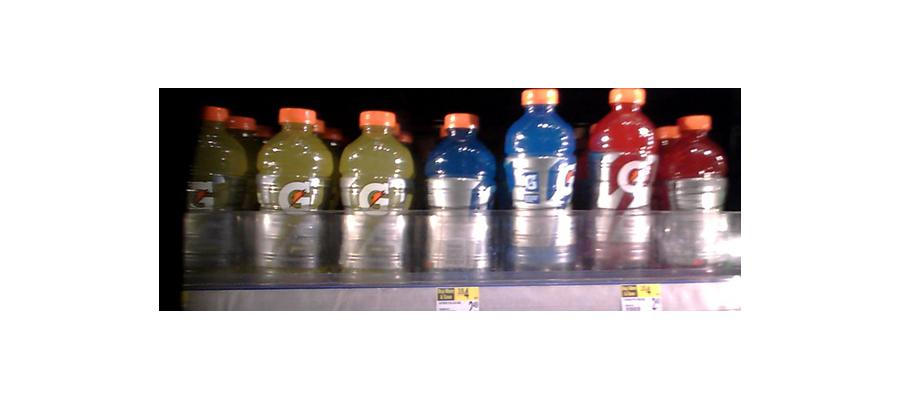bottle: (503, 82, 580, 277), (586, 82, 658, 275), (337, 107, 412, 286), (254, 105, 329, 283), (420, 109, 495, 279), (183, 99, 245, 280), (657, 110, 725, 273)
